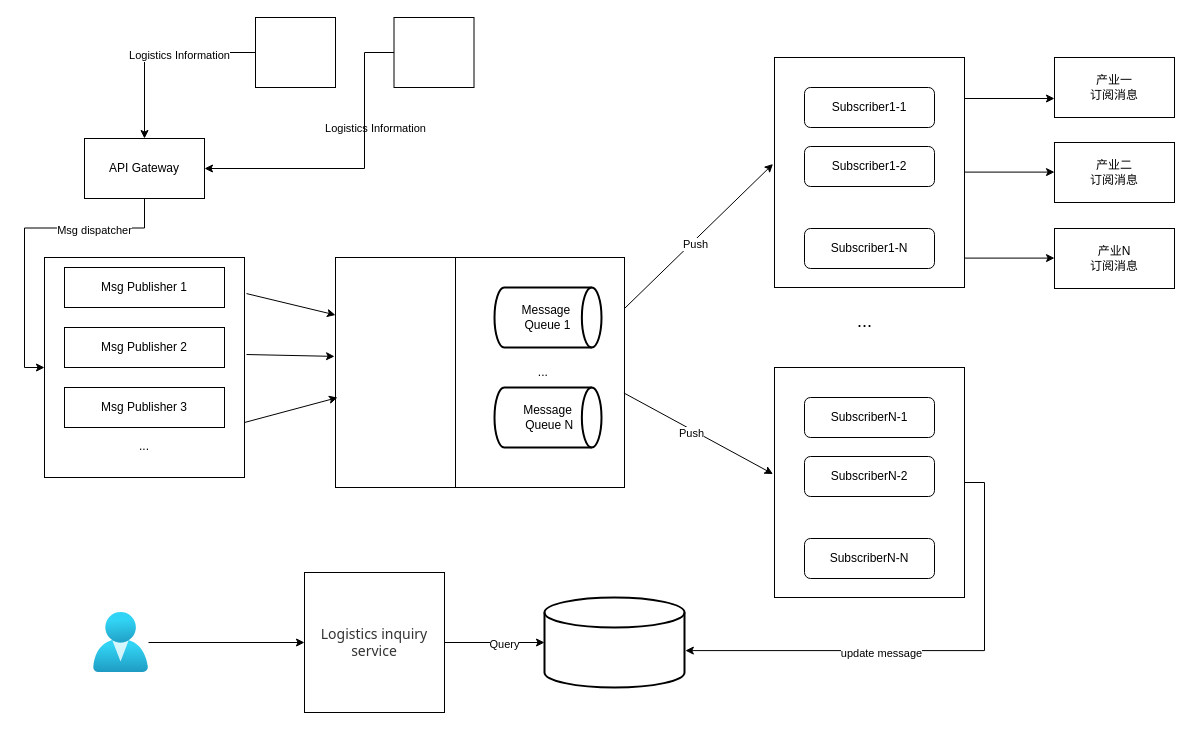
Image size: 1192x730. Some labels were removed from this diagram. The shapes that lost their labels are listed below. From the top down, each one's box as (x1, y1, x2, y2) in pixels, then its label:
(254, 16, 336, 88): 物流合作 伙伴一
(393, 16, 474, 88): 物流合作 伙伴二
(774, 56, 964, 288): Subscriber Group 1 ...
(334, 256, 456, 488): Routing
(774, 366, 964, 598): Subscriber Group N ...
(543, 596, 685, 688): Database
